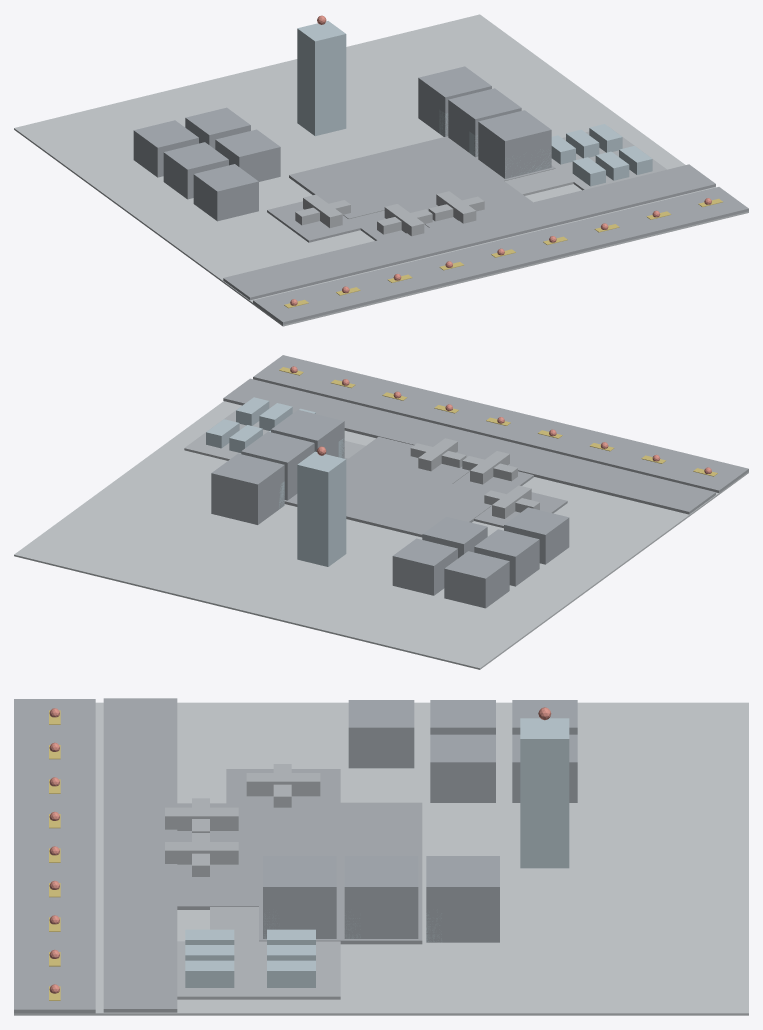
The model's file is stage_20.glb.
The picture shows the model from 3 angles, top to bottom: view 1: azimuth 30°, elevation 25°; view 2: azimuth 150°, elevation 25°; view 3: azimuth 270°, elevation 25°; orthographic projection. The views are drawn at different scales.
Visible parts, largest first — view 1: geometry_0; view 2: geometry_0; view 3: geometry_0.
Boxes of the visible parts, x1=… form: geometry_0: x1=14, y1=14, x2=748, y2=326; geometry_0: x1=14, y1=355, x2=748, y2=669; geometry_0: x1=14, y1=698, x2=748, y2=1015.
Size of the model in its own units: 9 by 2.06 by 9.
